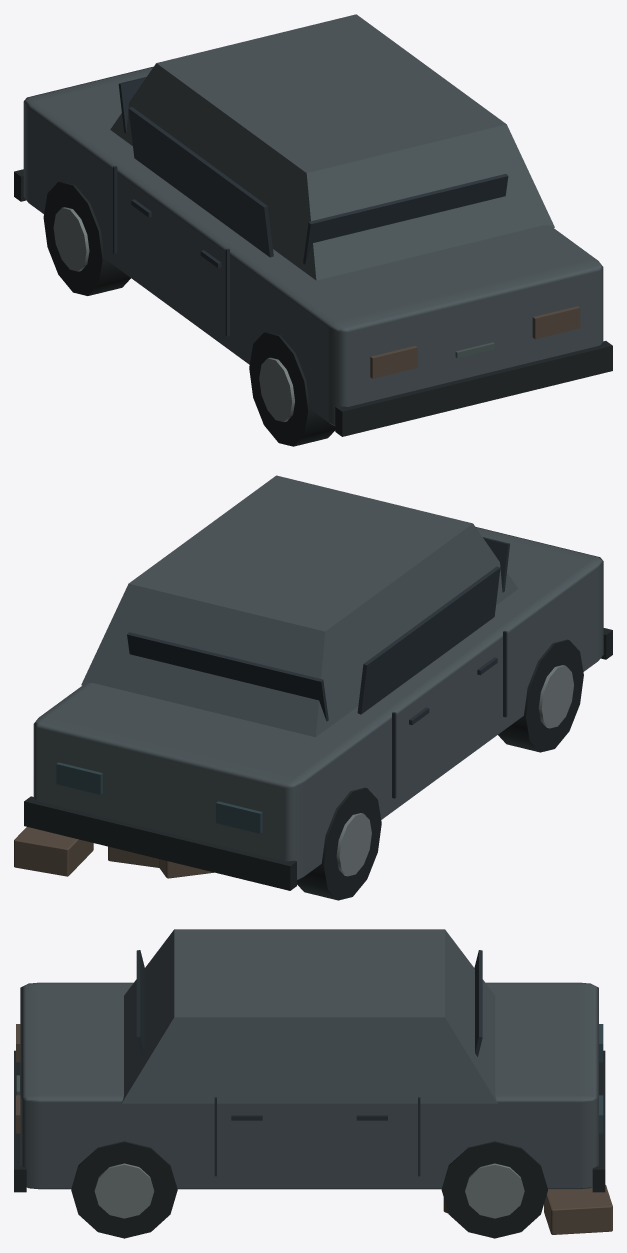
Rendered from hatchback-wreck-3.glb.
3 renders of one model, top to bottom at view 1: azimuth 30°, elevation 25°; view 2: azimuth 150°, elevation 25°; view 3: azimuth 270°, elevation 25°, orthographic. The views are drawn at different scales.
Parts seen in each view (by area): view 1: hatchback-wreck/2/KR-230-3; view 2: hatchback-wreck/2/KR-230-3; view 3: hatchback-wreck/2/KR-230-3.
Boxes of the visible parts, x1,y1,x2,y2 form: hatchback-wreck/2/KR-230-3: (14,14,612,446); hatchback-wreck/2/KR-230-3: (14,475,612,900); hatchback-wreck/2/KR-230-3: (14,929,612,1238).
Size of the model in its own units: 1.93 by 1.5 by 3.83.
